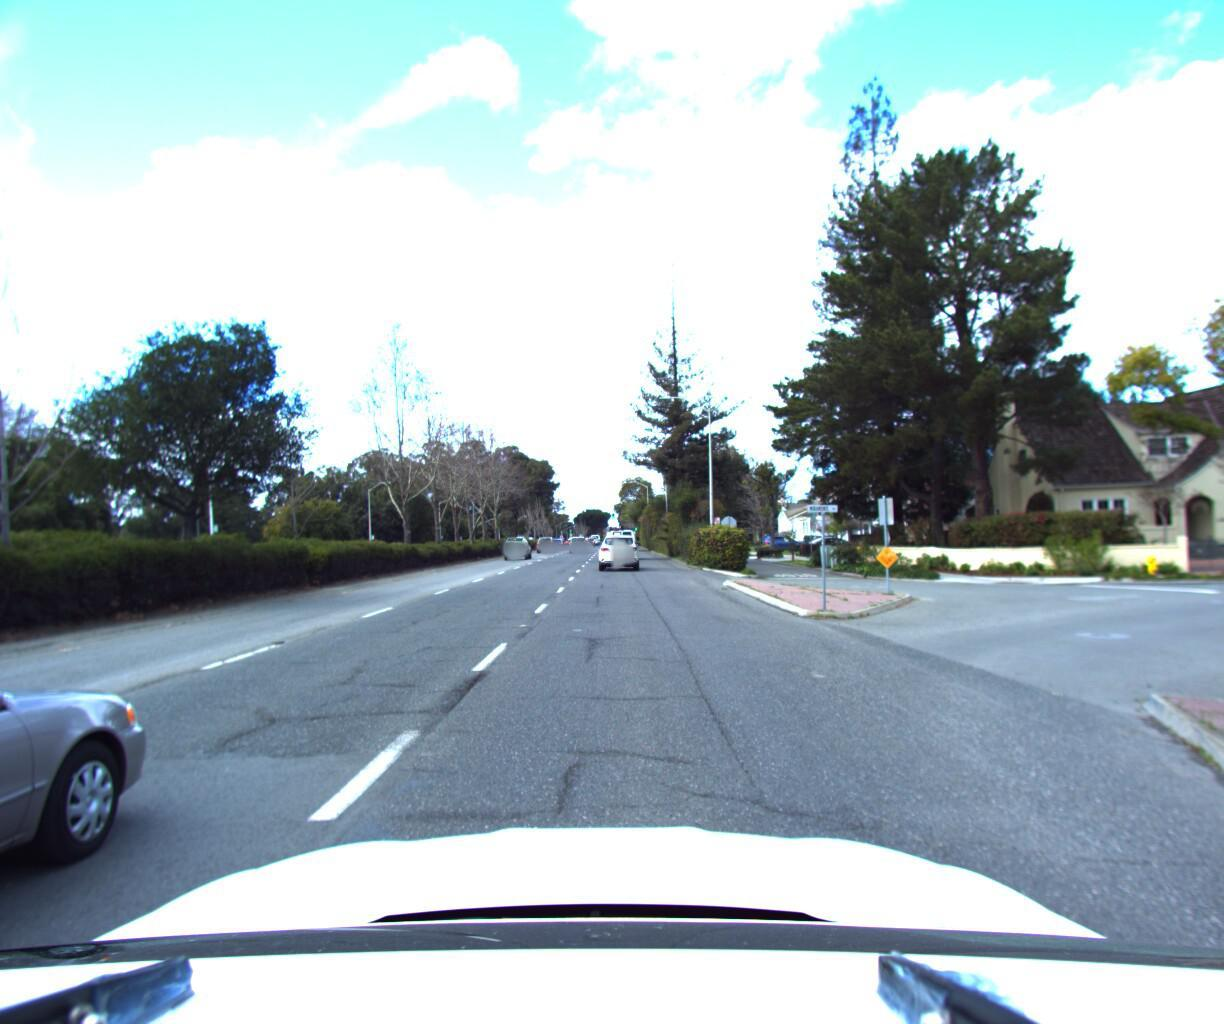car: (0, 559, 198, 1024), (596, 533, 642, 575), (608, 526, 644, 563), (762, 536, 814, 555), (504, 538, 536, 563), (537, 539, 559, 557), (570, 538, 592, 556)
